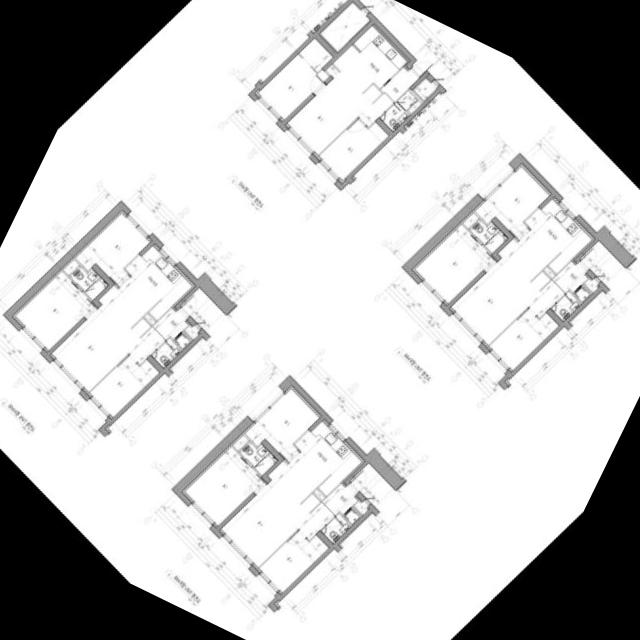background: (0, 0, 640, 640)
space_bedroom: (413, 224, 493, 304), (183, 447, 263, 526), (14, 271, 94, 350), (257, 38, 332, 120), (74, 213, 149, 288), (473, 167, 548, 242), (243, 389, 317, 464), (88, 355, 159, 417), (488, 309, 559, 371), (258, 531, 328, 593), (318, 119, 388, 180)
space_front: (379, 67, 418, 103), (551, 261, 587, 293), (152, 308, 188, 339), (321, 484, 357, 515)
space_kitchen: (97, 245, 192, 331), (497, 198, 591, 284), (266, 421, 361, 506), (332, 25, 406, 93)
space_living_room: (220, 480, 334, 567), (450, 258, 564, 345), (51, 305, 164, 392), (286, 64, 392, 155)
space_other: (320, 2, 369, 51), (179, 287, 226, 334), (348, 463, 395, 509), (579, 241, 625, 287), (413, 78, 437, 100), (462, 212, 478, 229), (232, 435, 248, 451), (62, 259, 78, 275), (184, 325, 199, 340), (353, 501, 367, 516), (583, 279, 598, 293), (407, 101, 421, 114), (313, 489, 324, 501), (144, 314, 155, 325), (543, 267, 554, 278)
space_toilet: (320, 507, 361, 544), (550, 285, 591, 322), (379, 90, 416, 131), (151, 332, 191, 368), (238, 441, 277, 476), (468, 219, 507, 253), (69, 266, 107, 300)
